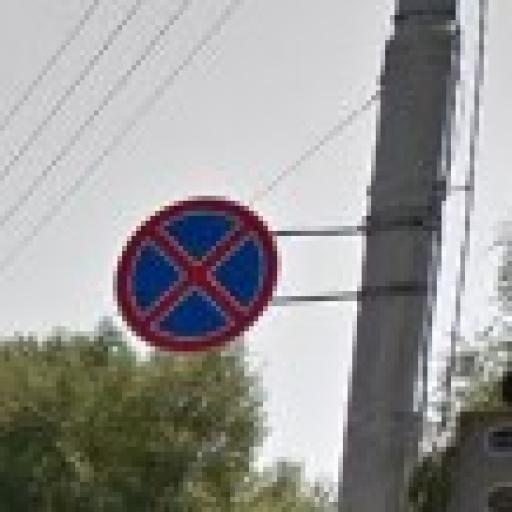traffic_sign: (114, 197, 283, 357)
